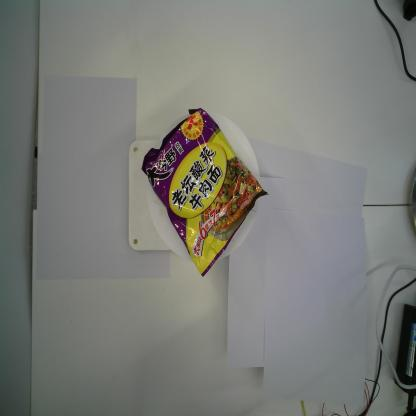Instant Noodles: (140, 107, 270, 282)
